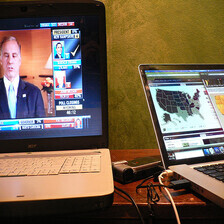laptop: (1, 1, 122, 217), (129, 53, 224, 224)
